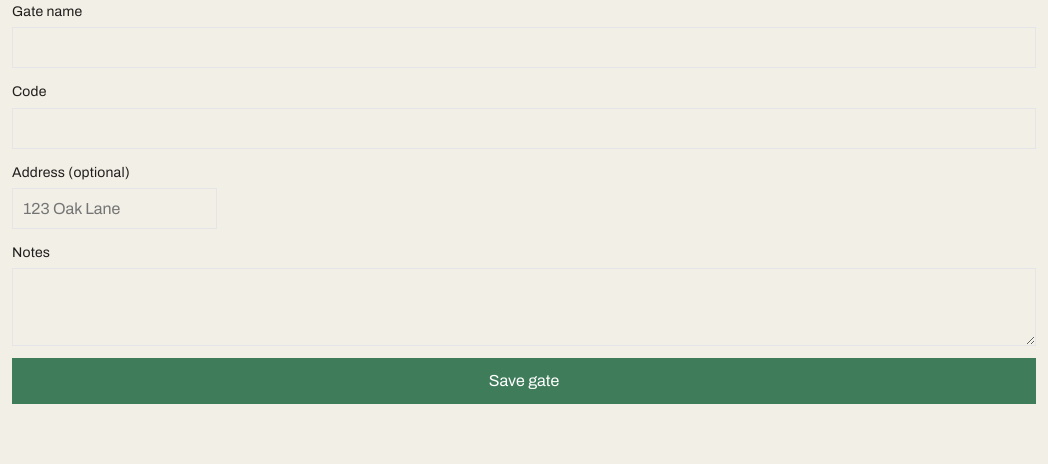
Test case: GateForm › hides the checkbox again if the address is cleared after picking a suggestion
Type "1600 Amp" into the dropdown labelled "Address (optional)" at point(114, 209), box [12,188,217,229]
Wait 300 ms
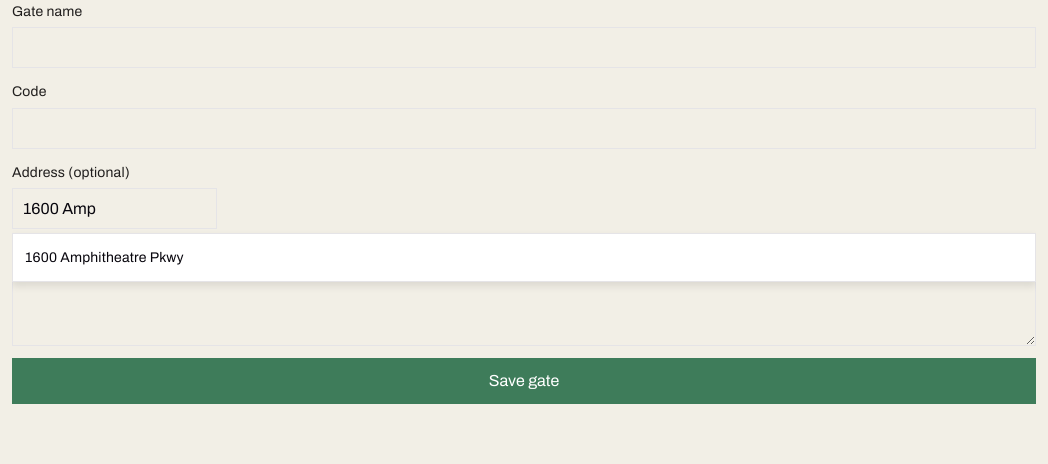
Press the mouse on the option "1600 Amphitheatre Pkwy" at point(104, 258), box [25,250,184,265]
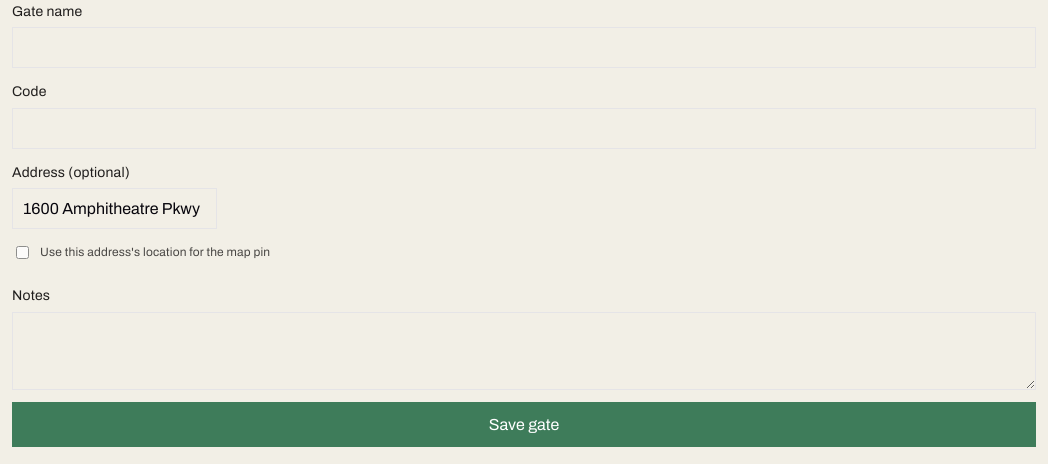
Expected: the checkbox is shown, [16,246,29,259]
Clear the dropdown labelled "Address (optional)" at point(114, 209), box [12,188,217,229]
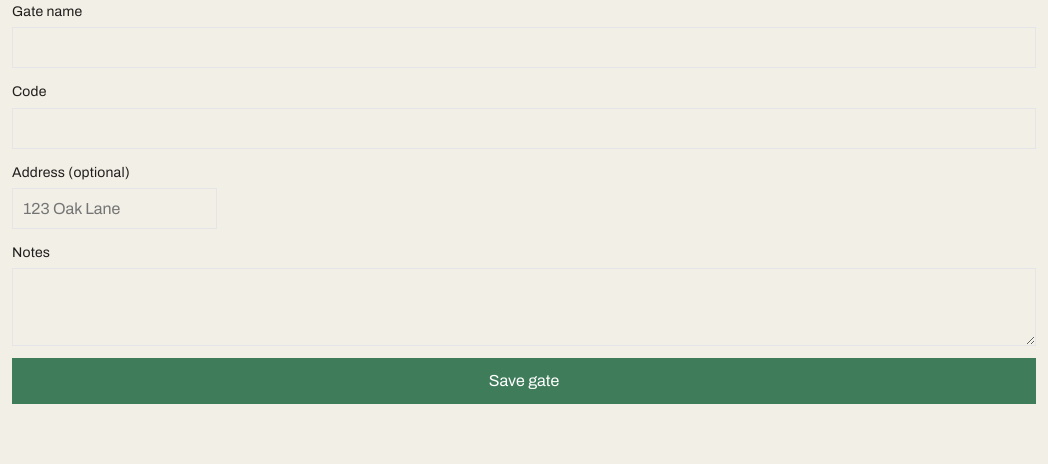
Expected: the checkbox is gone
